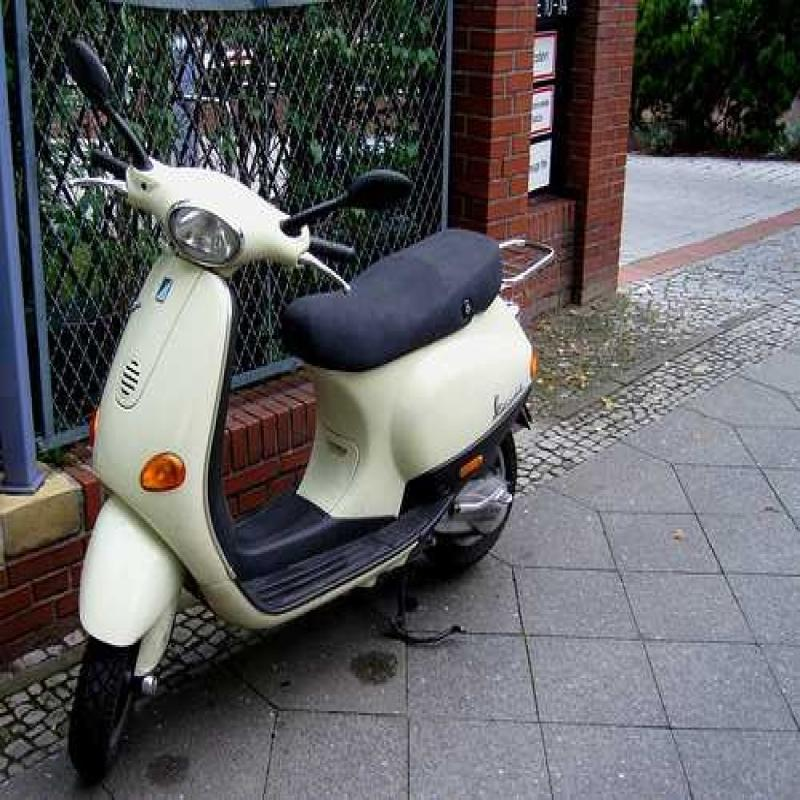bike: (51, 62, 554, 740)
